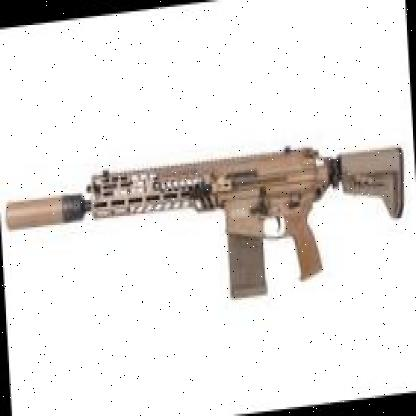rifle: (5, 122, 412, 330)
